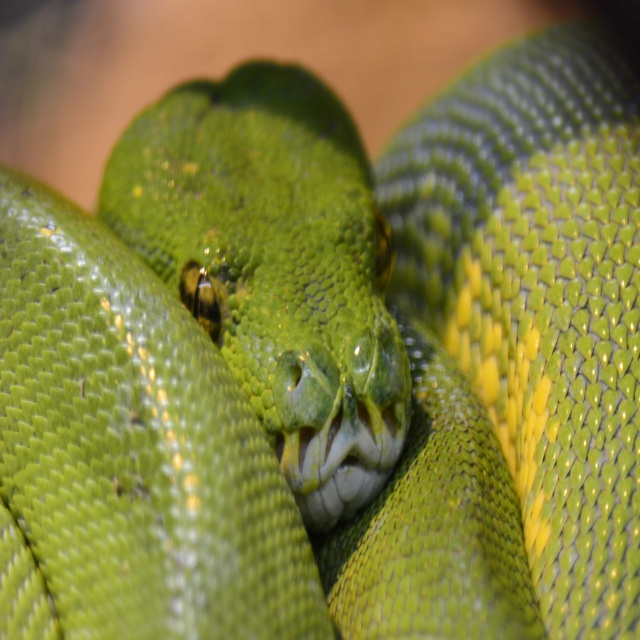Snake: (0, 11, 640, 639)
